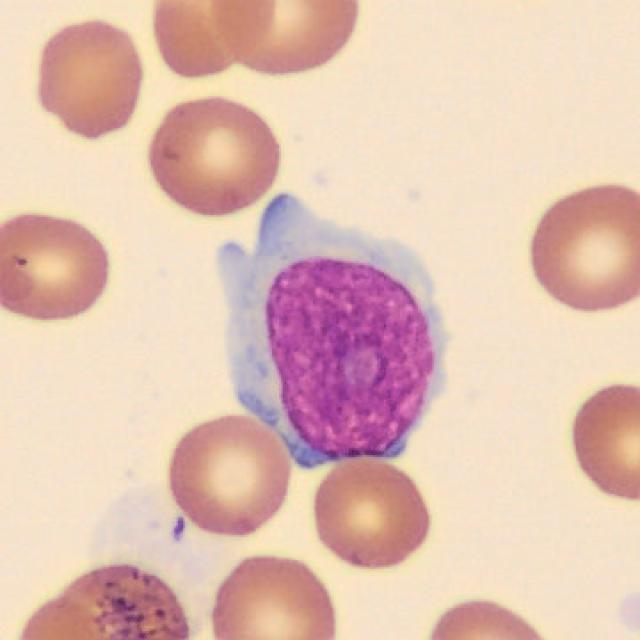Linfocito: (217, 194, 446, 471)
